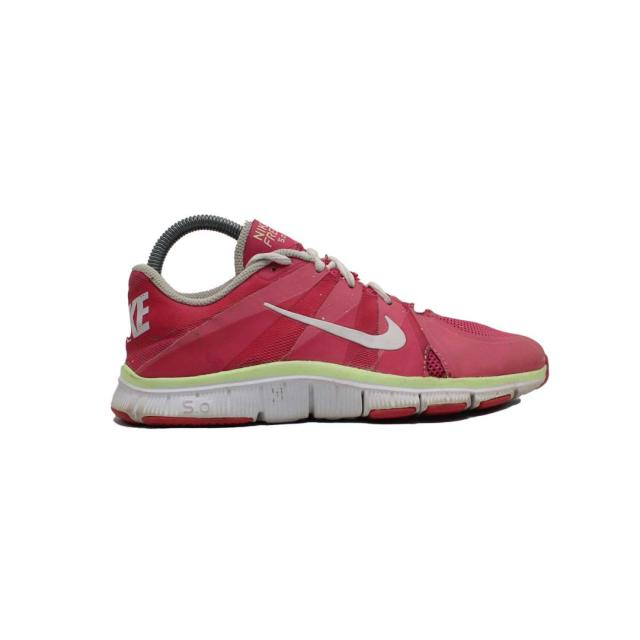heel: (116, 238, 168, 380)
midsole: (110, 357, 553, 424)
uppersole: (169, 200, 554, 378)
